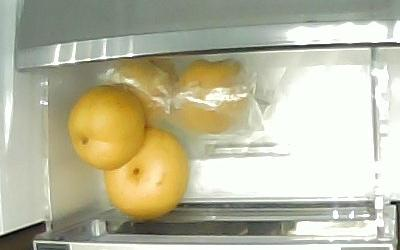pear: (102, 125, 189, 221), (66, 83, 146, 169)
pear_vinyl: (173, 57, 250, 134), (106, 60, 178, 125)
